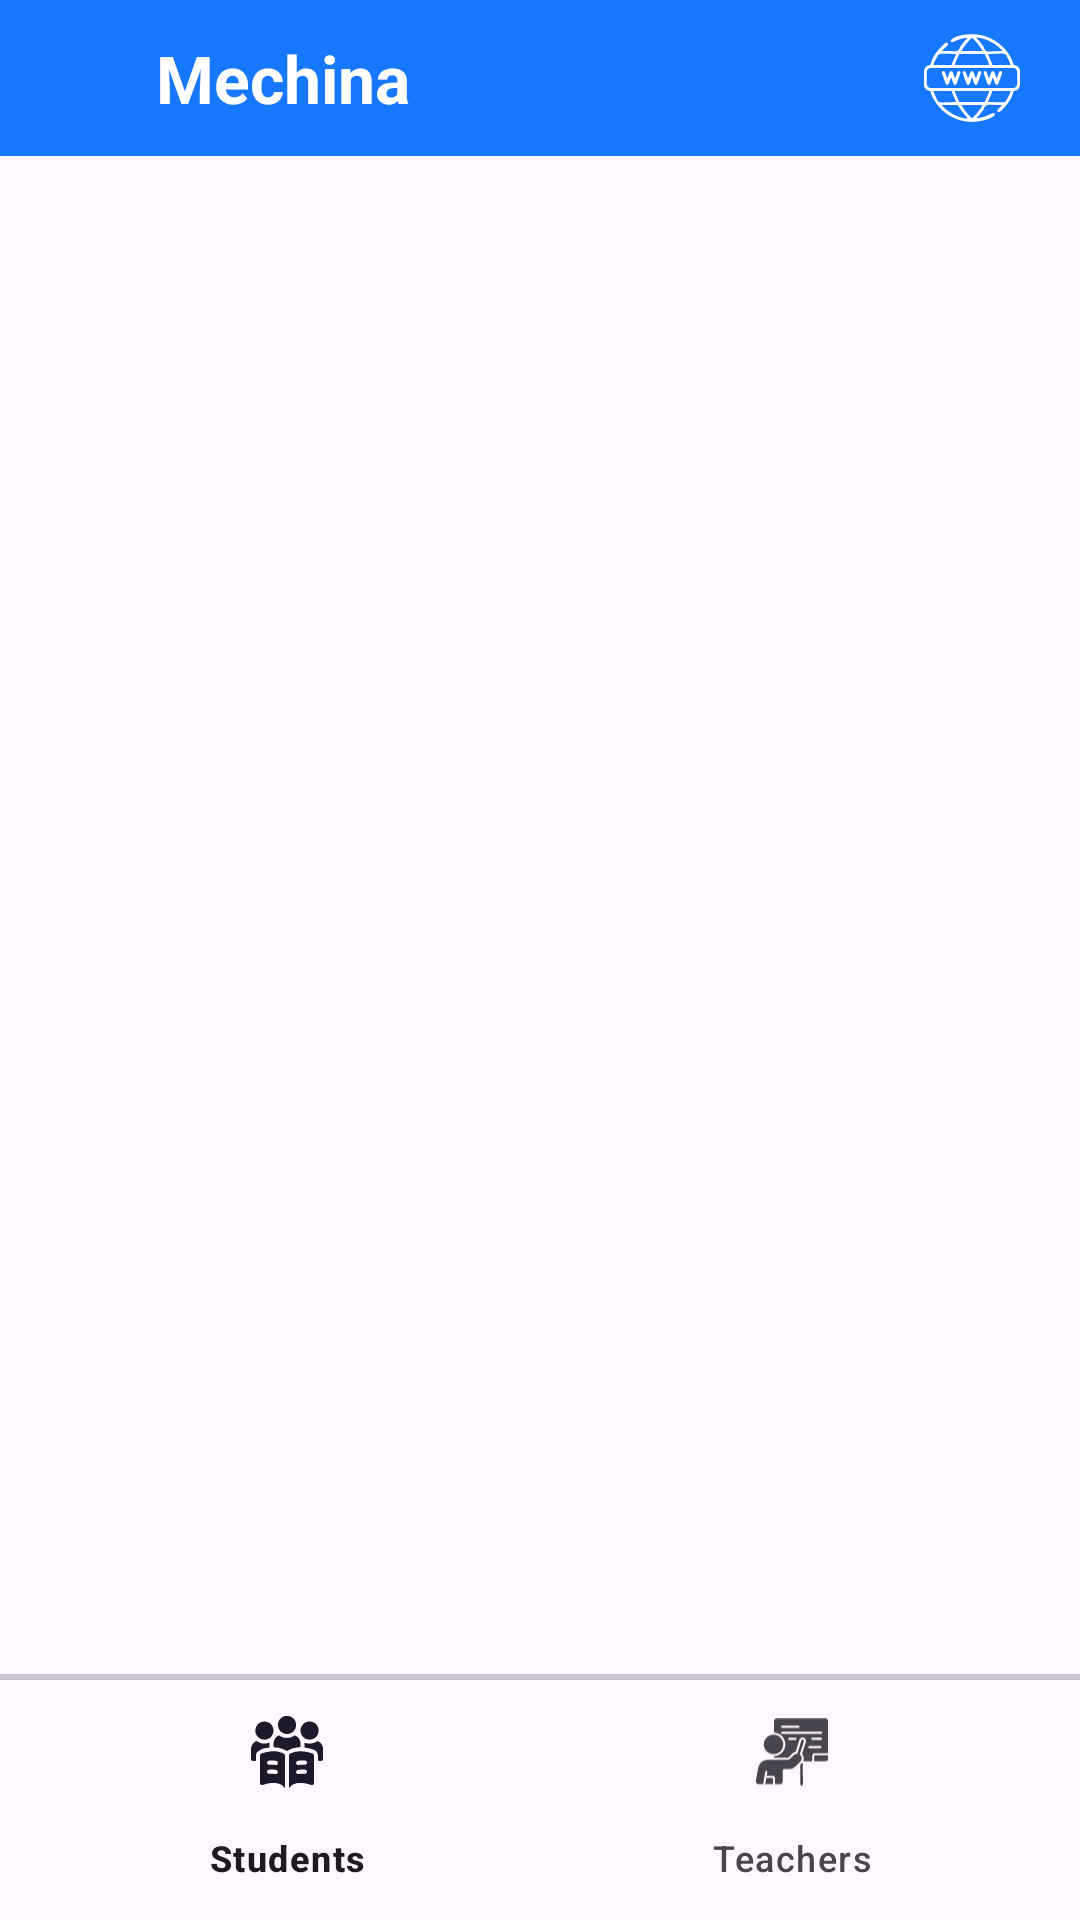

Locate icon controls on the screen. Image size 1080x1920, boxes as (x1, y1, x2, y2).
internet: (924, 34, 1020, 122)
